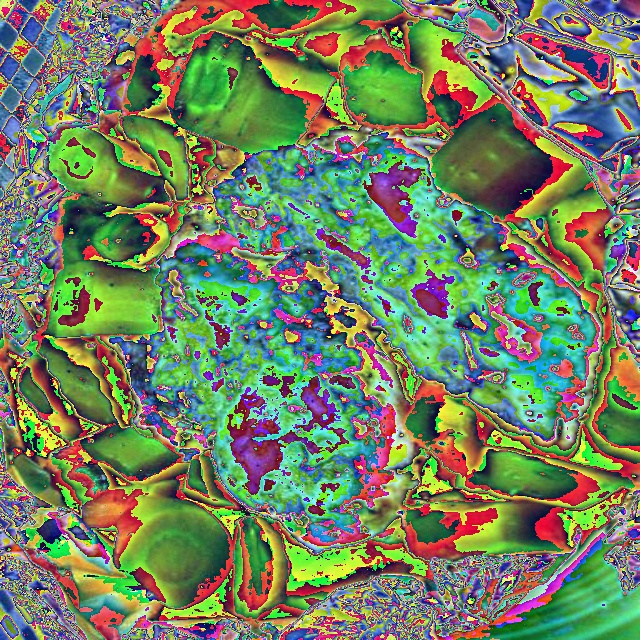background: (15, 0, 639, 627)
